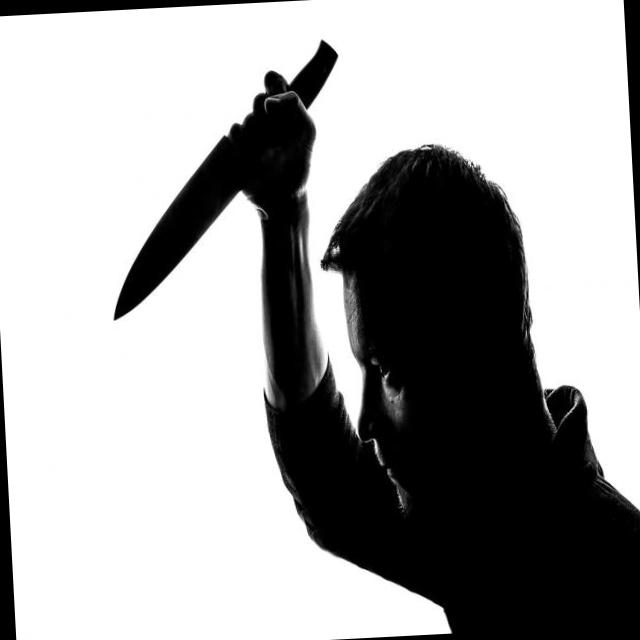Knife: (114, 136, 244, 319), (287, 41, 338, 108)
